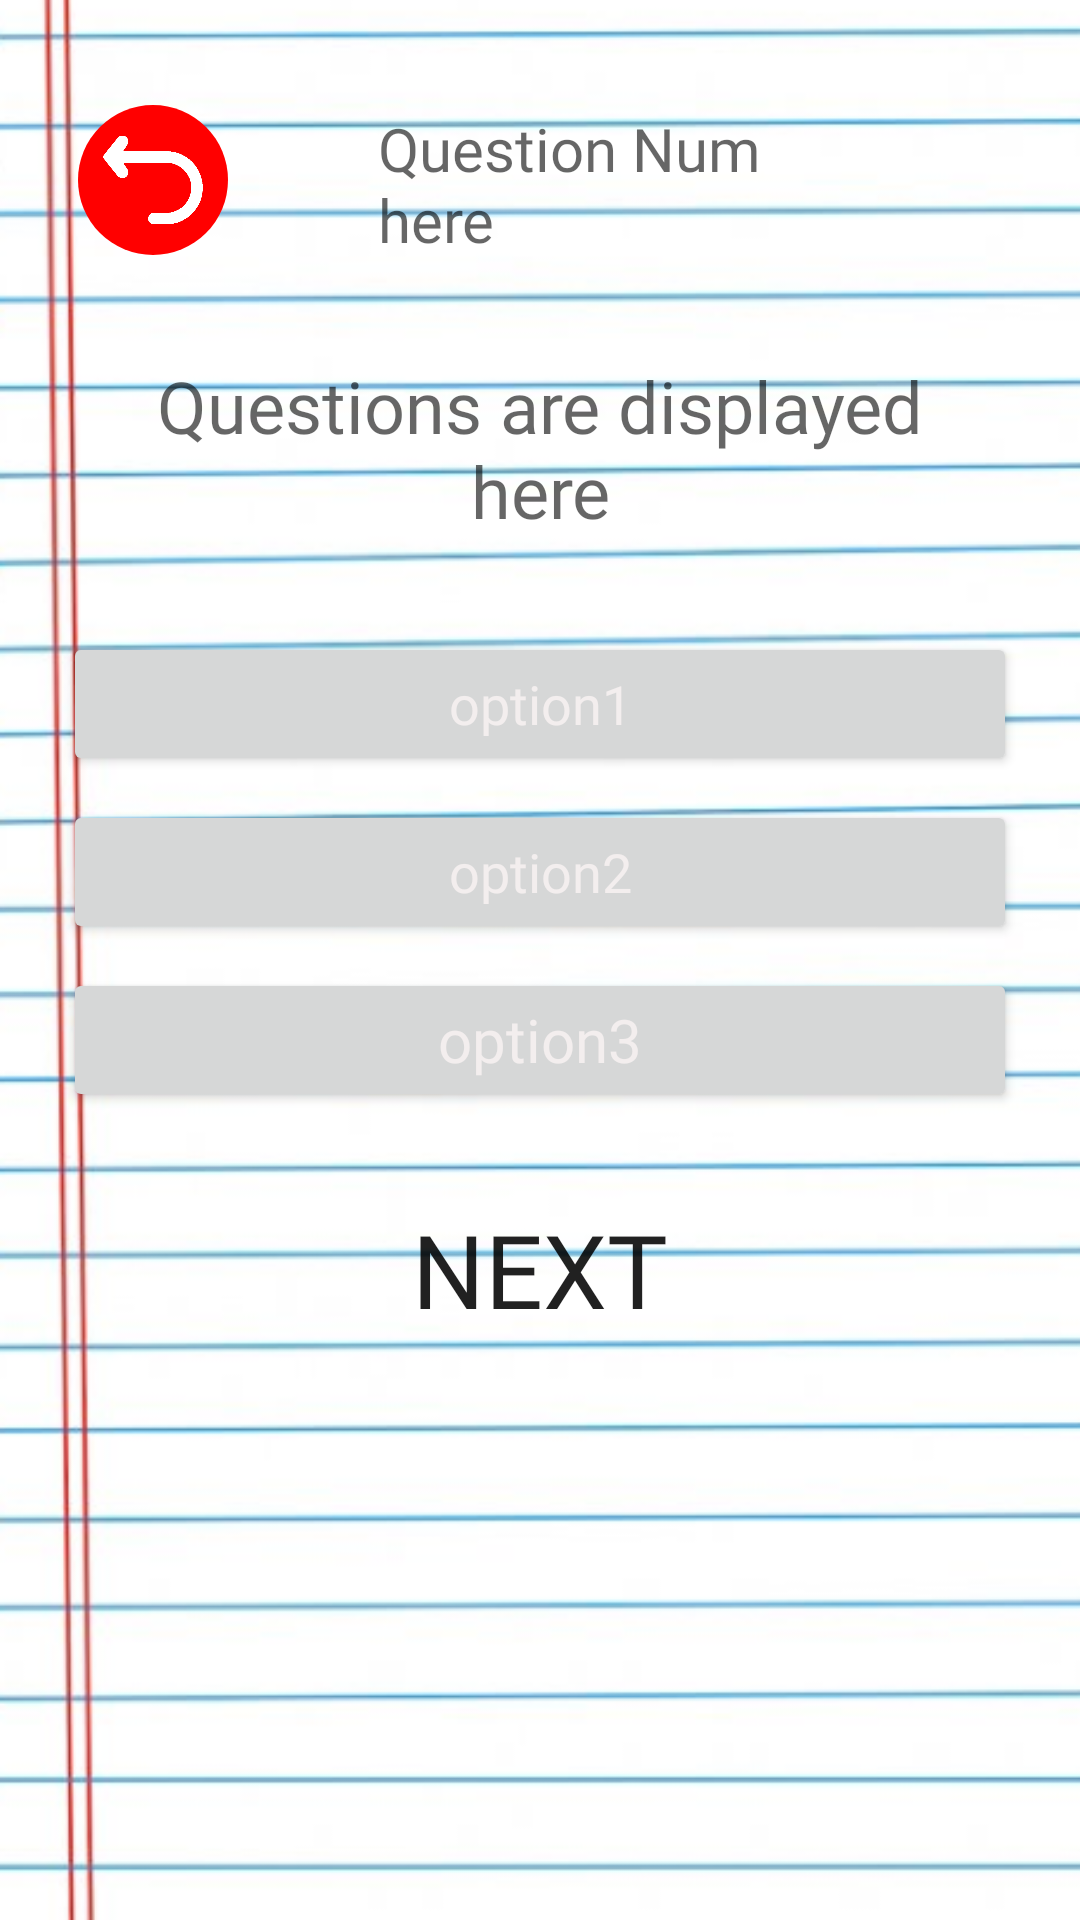

Named icons in this screenshot (1080x1920) and their centers, (x,y):
back: (153,180)
